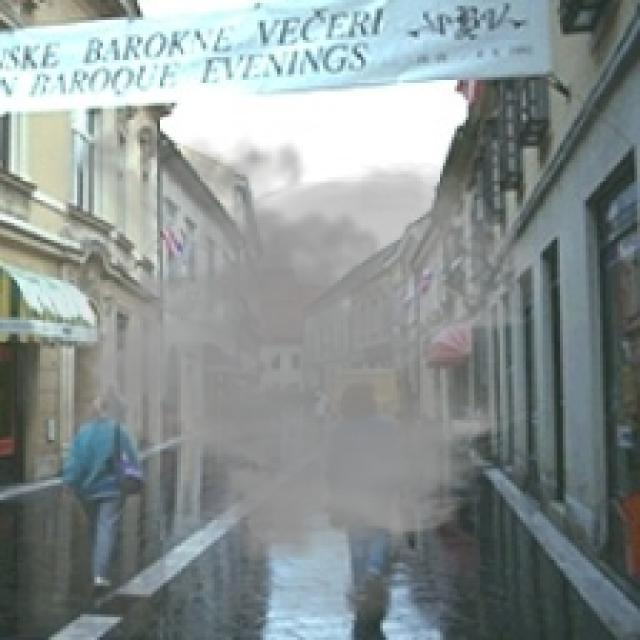Smoke: (17, 105, 549, 638)
